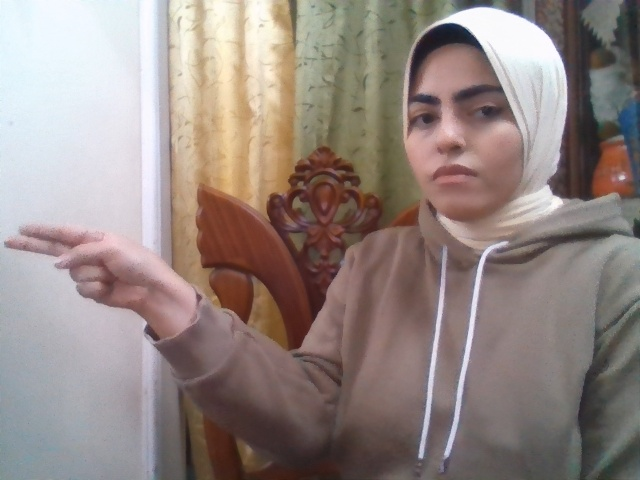H: (4, 224, 157, 309)
